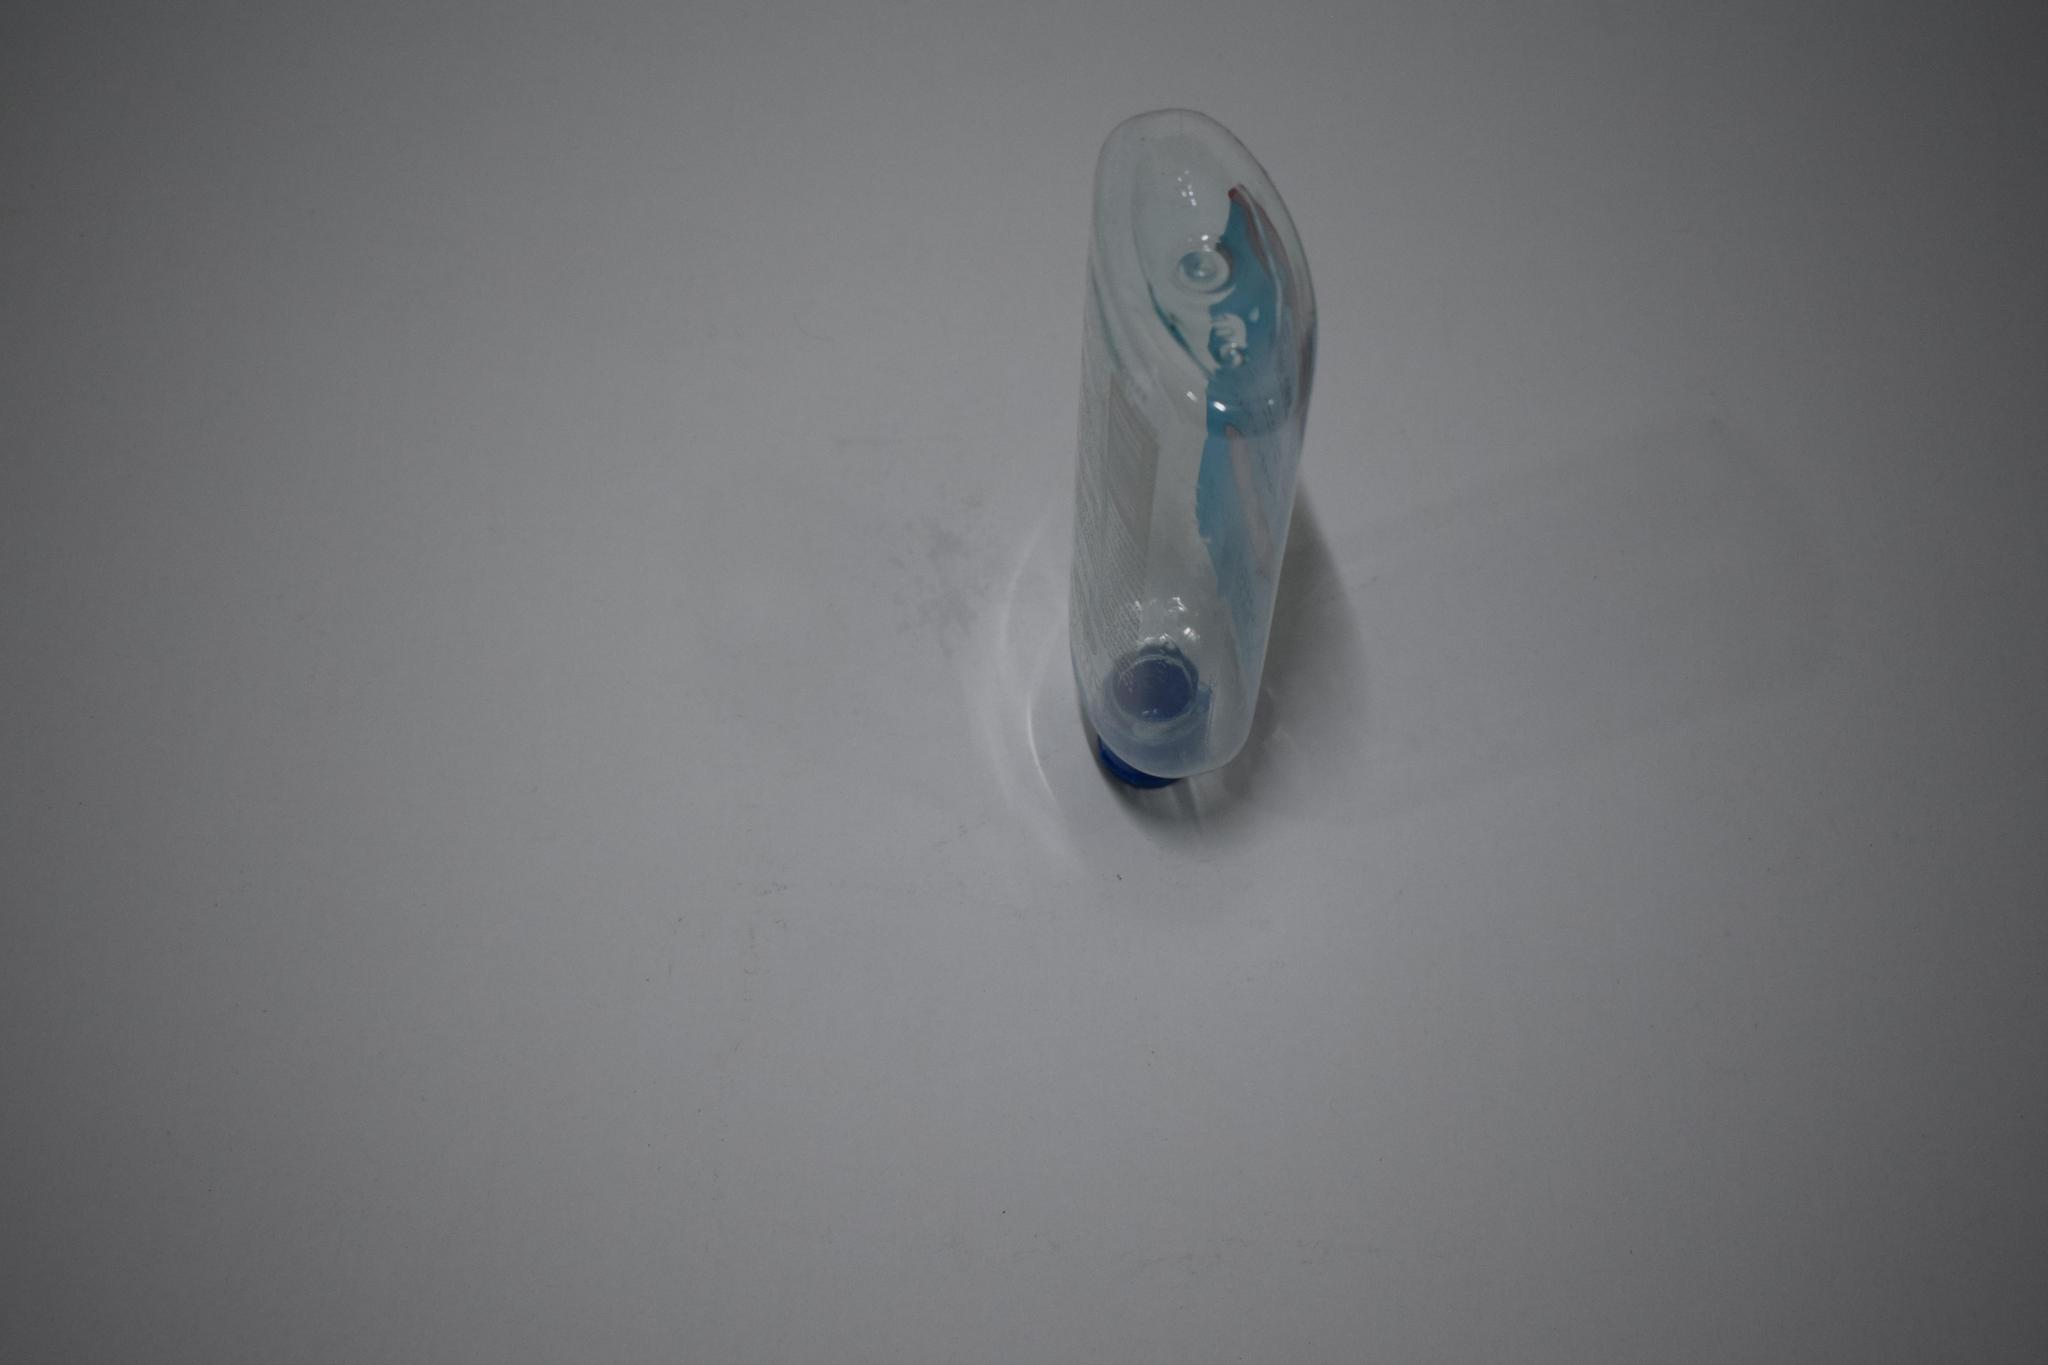bottle: (1029, 99, 1341, 846)
